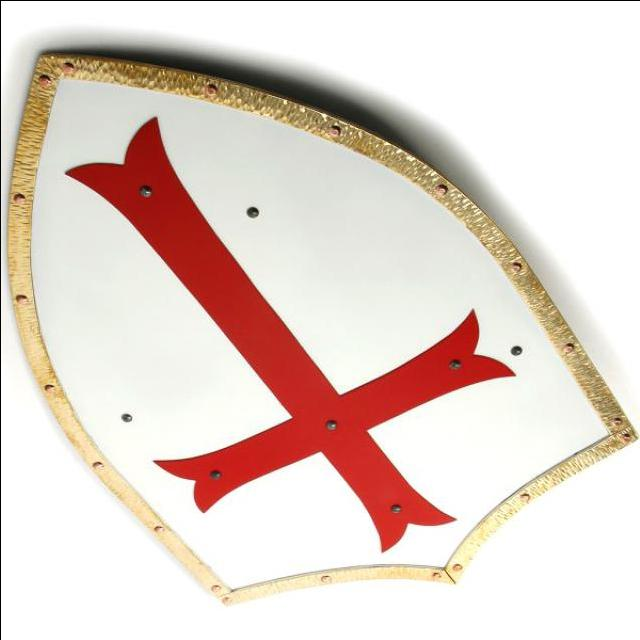shield: (11, 50, 639, 607)
